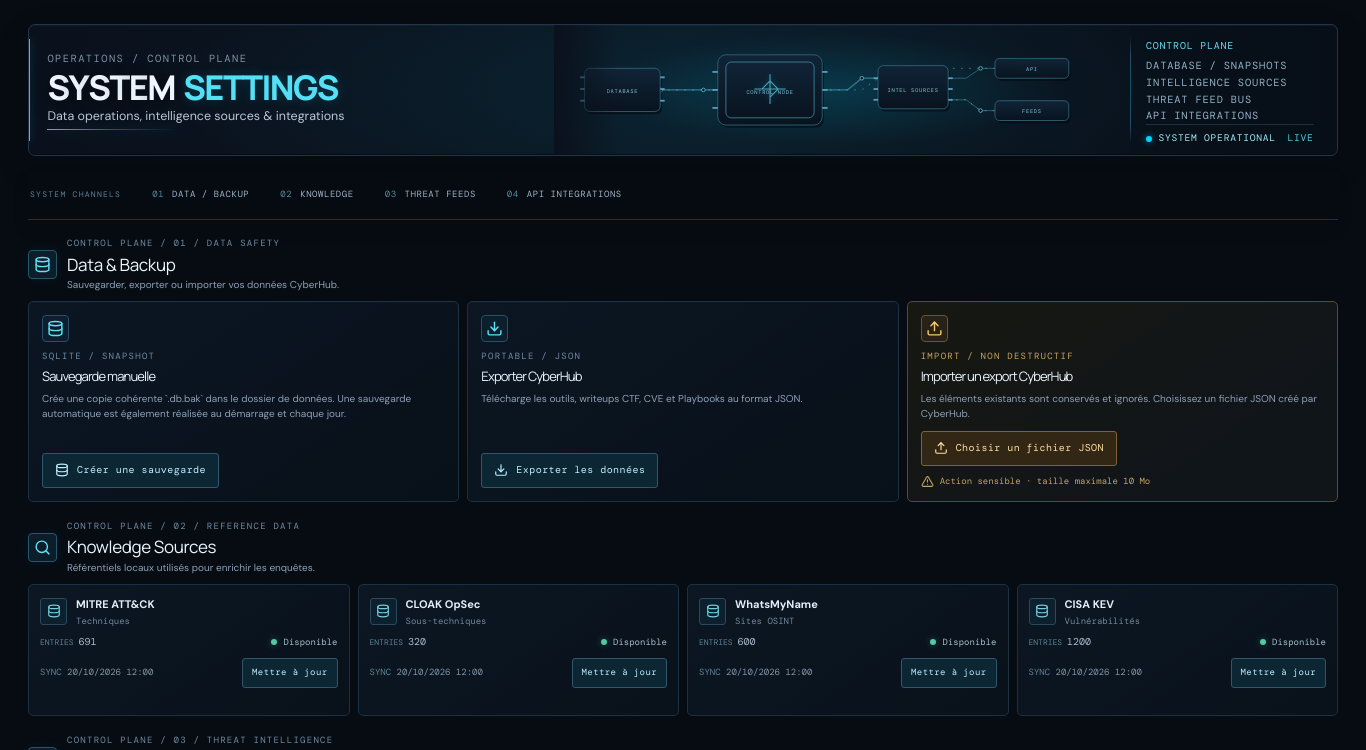
Settings 2026 › shows an accessible generic error when a knowledge update fails
Expected: the text "691" is shown, [78,635,96,648]
What coordinates should you click on to do the following:
click the button "Mettre à jour" below "320"
I would click on:
 (619, 673)
Its box is [572,658,667,688].
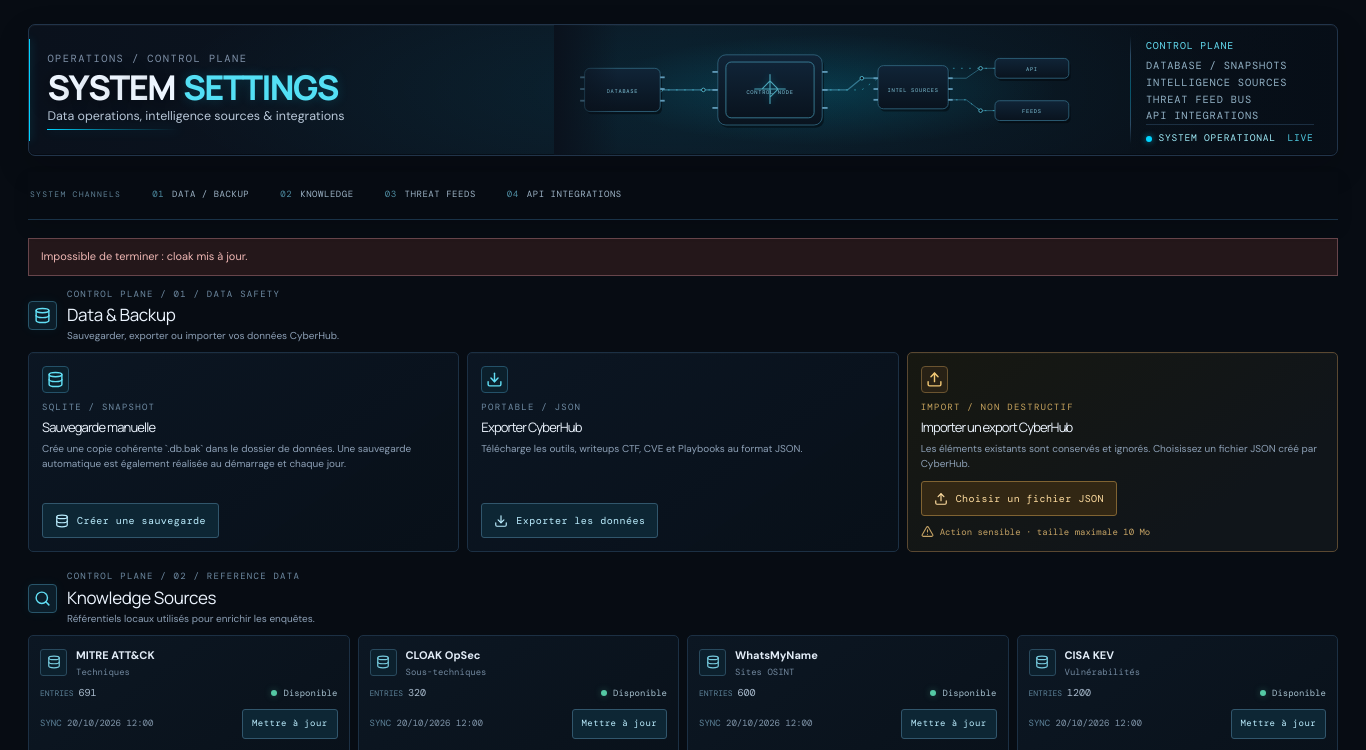
Result: the message shows "cloak mis à jour" at [41,249,248,263]
